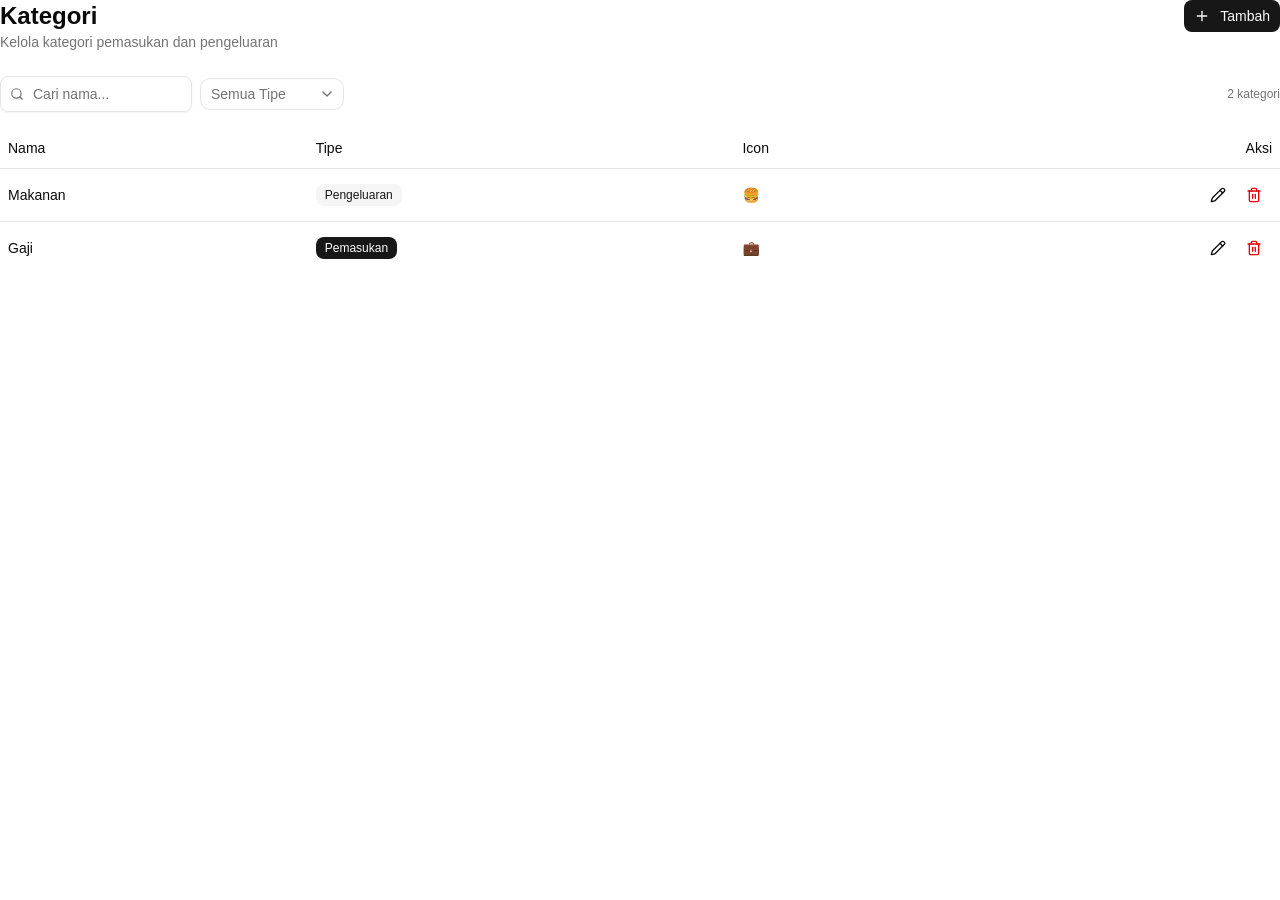
Scenario: CategoriesPage › opens edit dialog on Pencil click
The width and height of the screenshot is (1280, 900).
Expected: the text "Makanan" is shown, [0,168,308,221]
Click the 2nd button at (1218, 194), box [1200,176,1236,212]
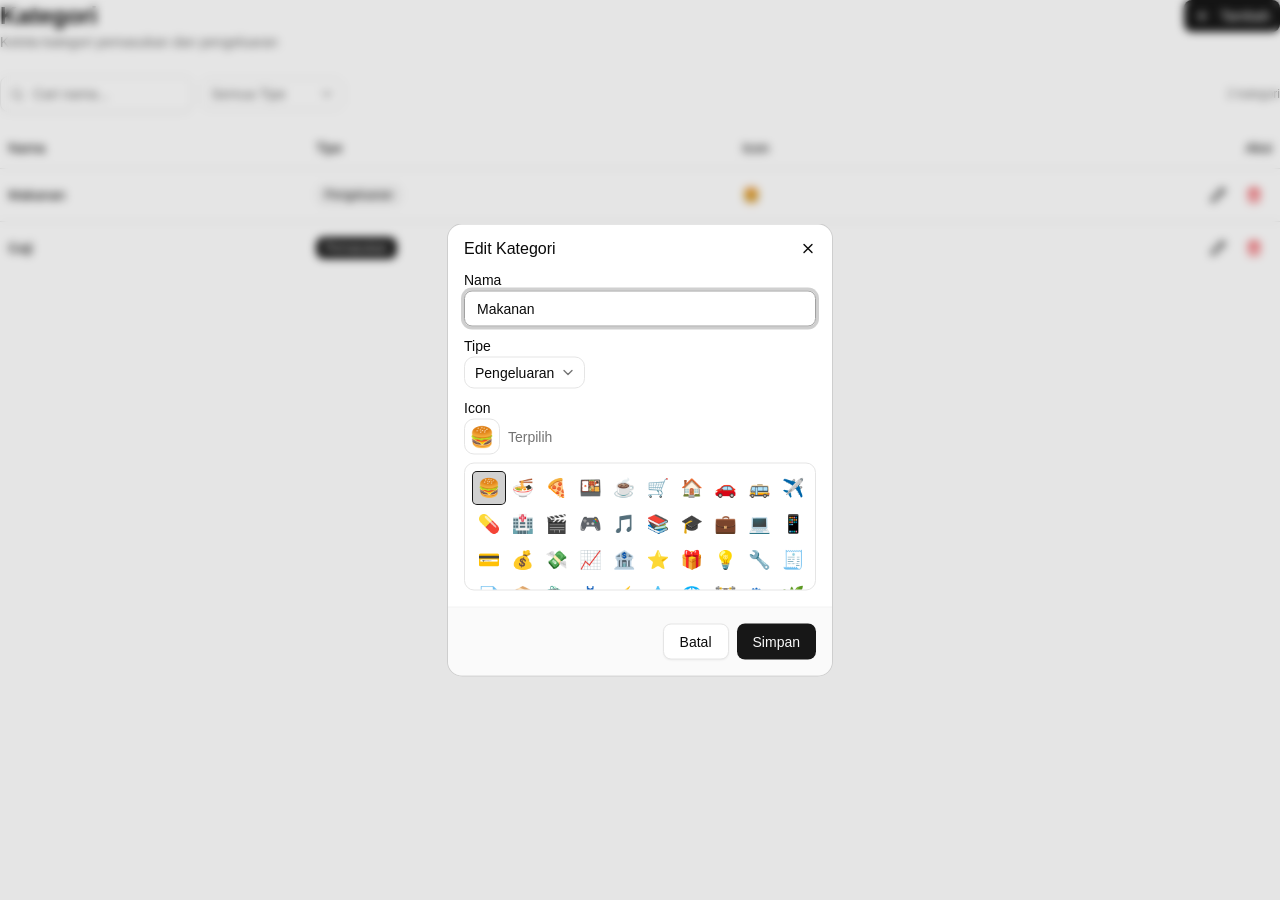
Now the heading "Edit Kategori" is shown, box [464,240,556,256]
